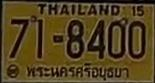0: (107, 20, 126, 57), (128, 20, 145, 58)
1: (36, 18, 42, 57)
4: (87, 18, 104, 57)
7: (10, 18, 28, 57)
8: (66, 19, 83, 57)
AYA: (23, 62, 132, 80)
